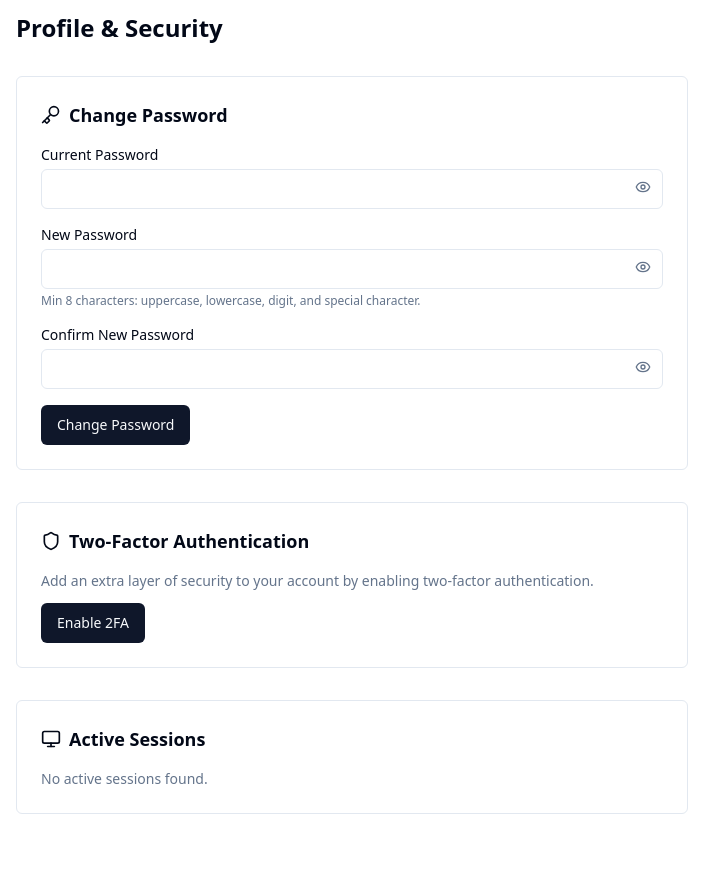
ProfilePage › shows mismatch error when passwords differ
This screenshot has width=705, height=879.
In the password field with test id "new-password": (352, 269) [41,249,663,289], type "ValidPass123!@"
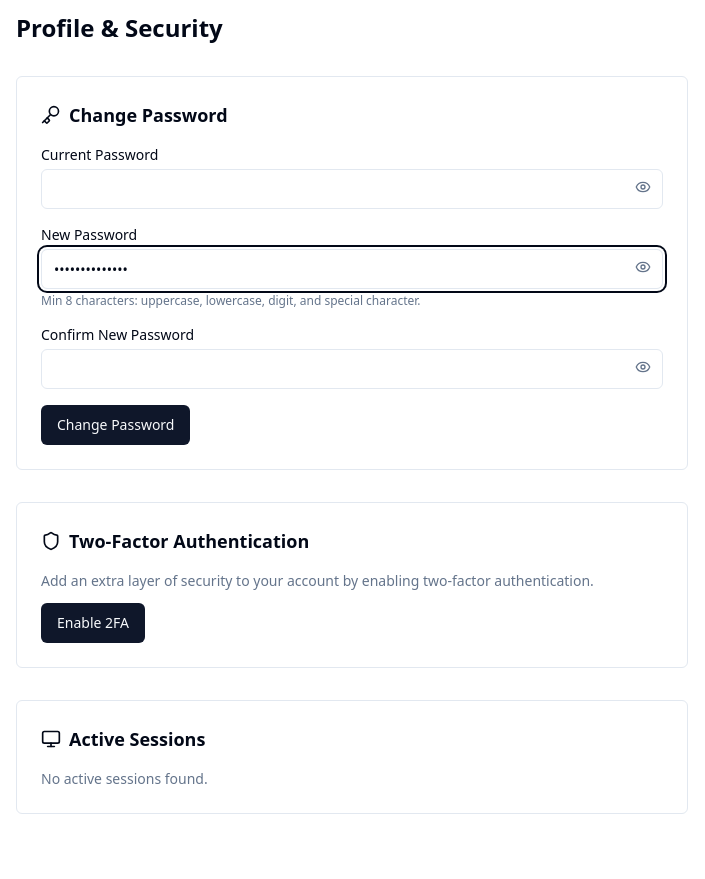
In the password field with test id "confirm-password": (352, 369) [41,349,663,389], type "DifferentPass1!"
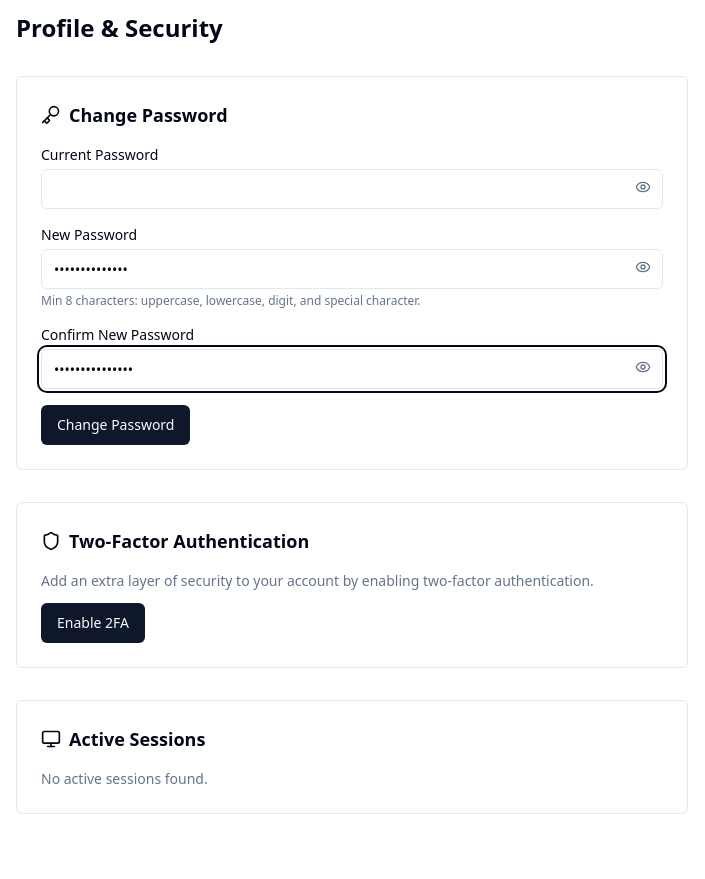
Click the button with test id "change-password-btn": (116, 425) [41,405,190,445]
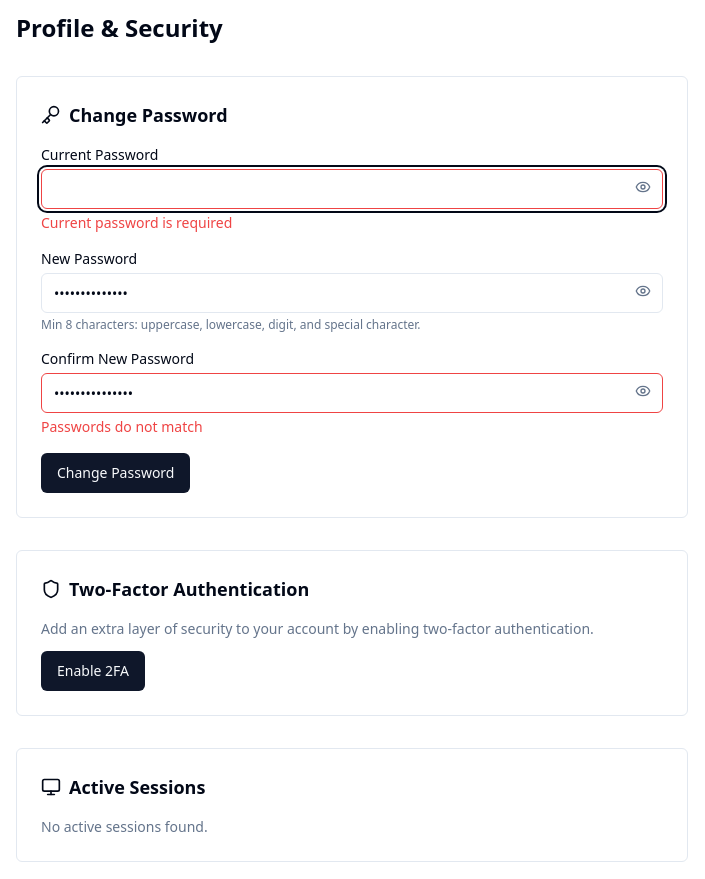
Expected: the text "Passwords do not match" is shown, [41,417,203,436]
